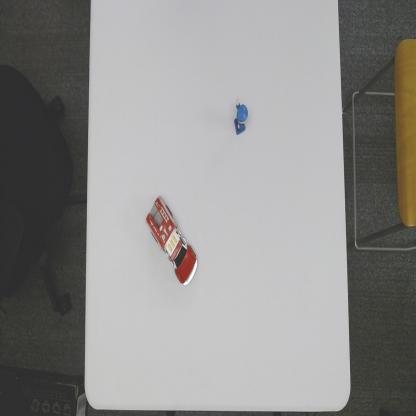Firetruck: (145, 192, 198, 290)
